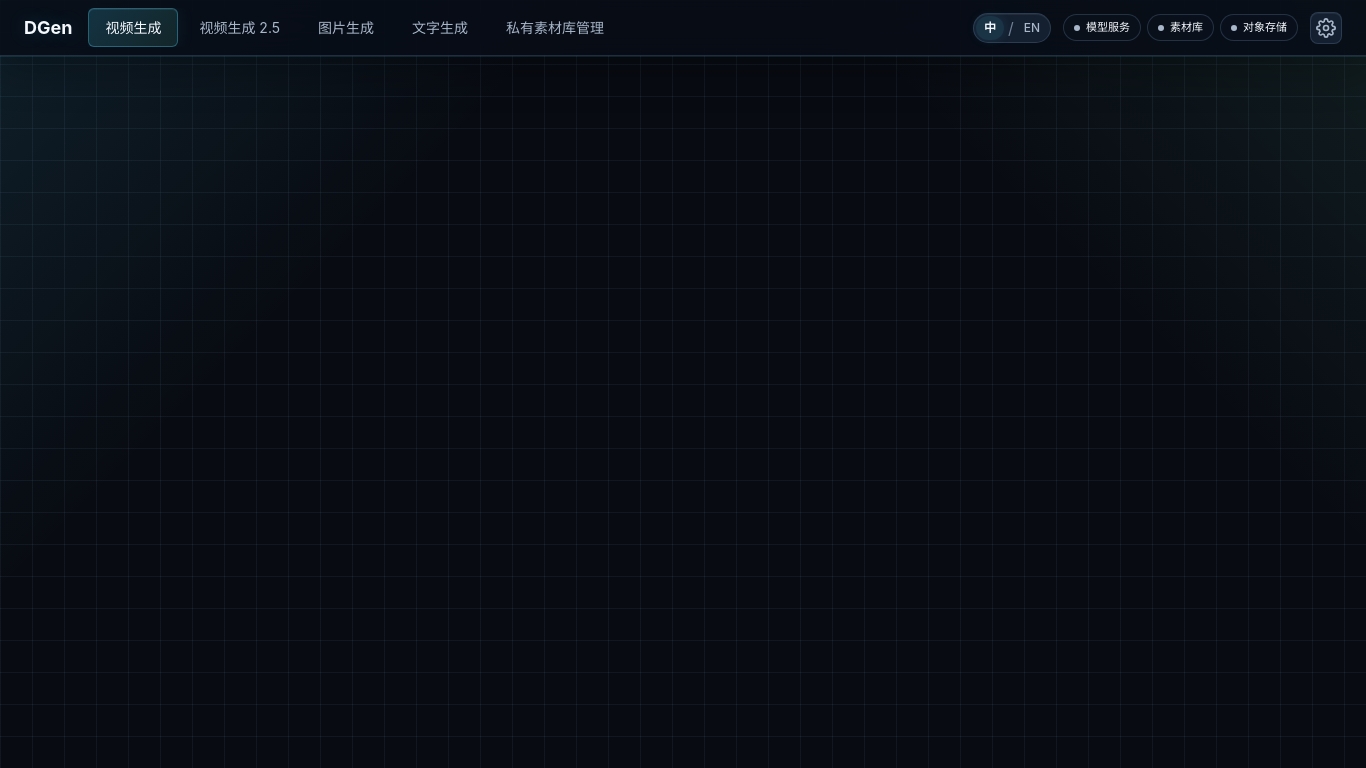
Test case: Header language switcher › switches Header navigation to English and persists the choice
The width and height of the screenshot is (1366, 768).
Click the button with aria-label "Switch to English" at (1032, 28), box [1016,16,1048,40]
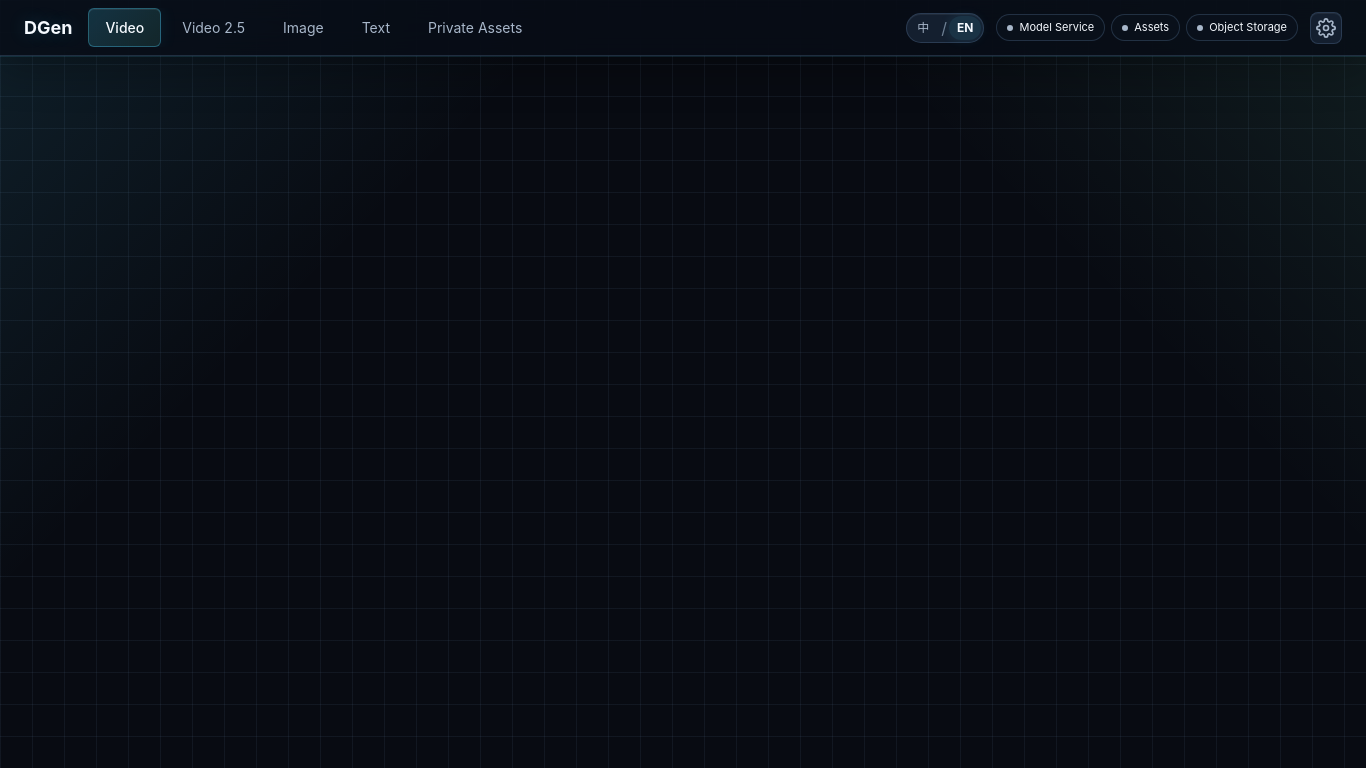
Expected: the button "Video" is shown, [88,8,161,47]
Expected: the button "Video 2.5" is shown, [165,8,262,47]
Expected: the button "Image" is shown, [266,8,341,47]
